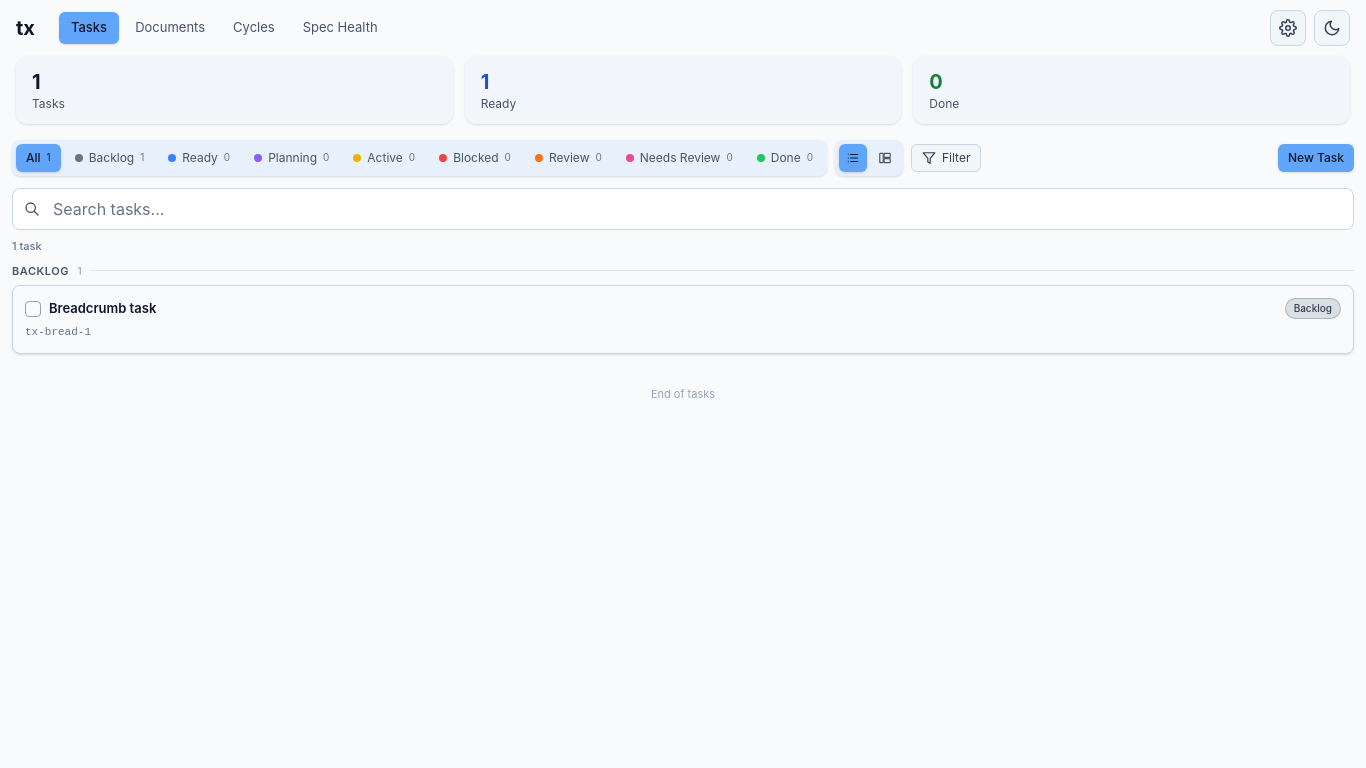
Test: Hierarchical command palette (integration) › breadcrumb 'All' click returns to root
Click the heading "Breadcrumb task" at (103, 309), box [49,299,156,318]
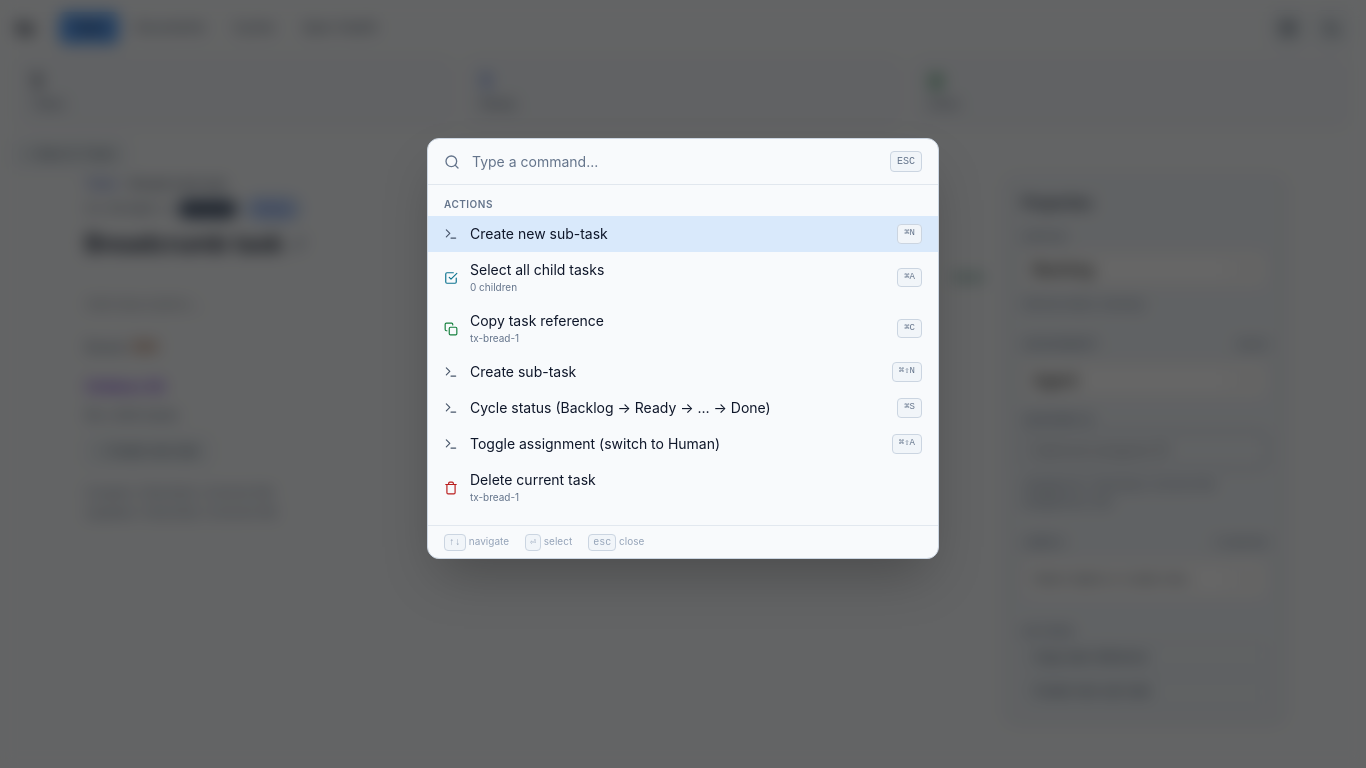
Expected: the field with placeholder "Type a command..." is shown
Type "Set status" into the field with placeholder "Type a command..." at (675, 162), box [472,152,878,172]
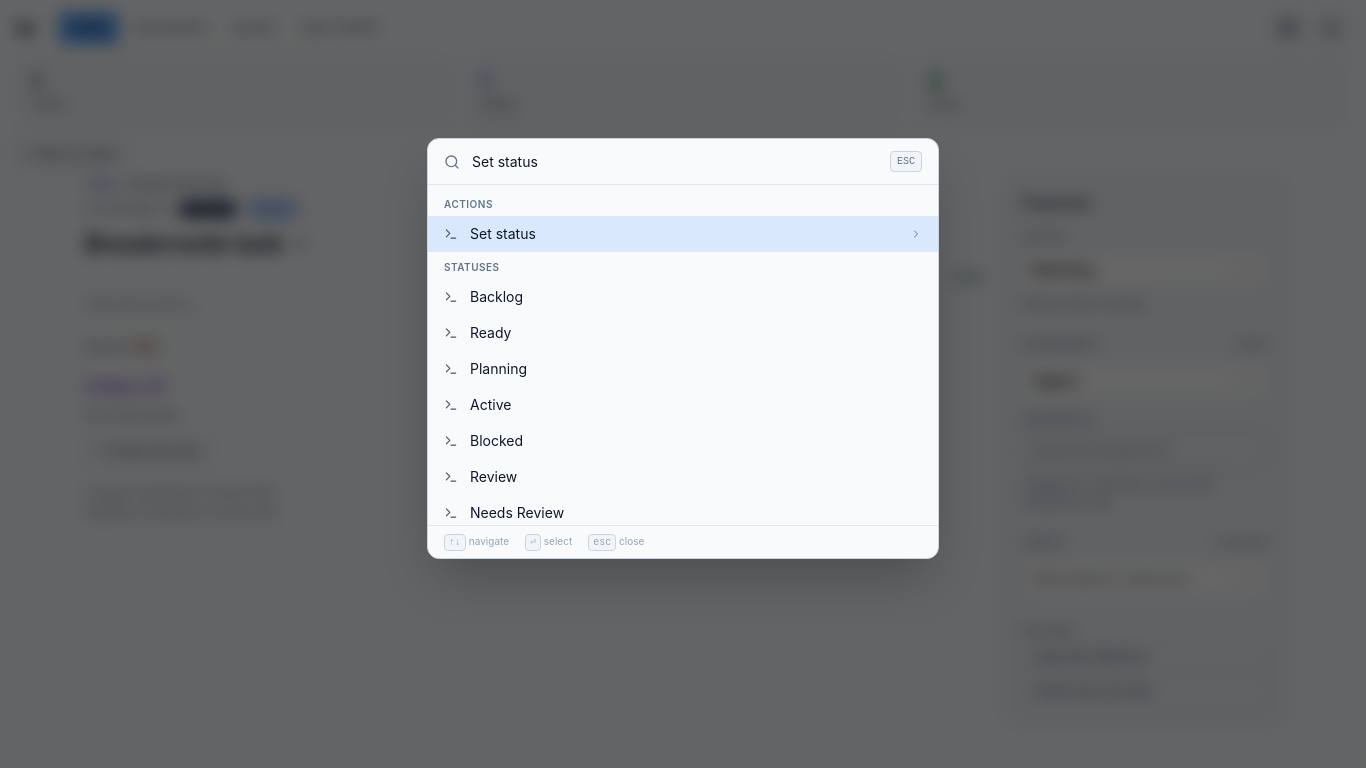
Click the button "Set status" at (503, 234), box [428,216,938,252]
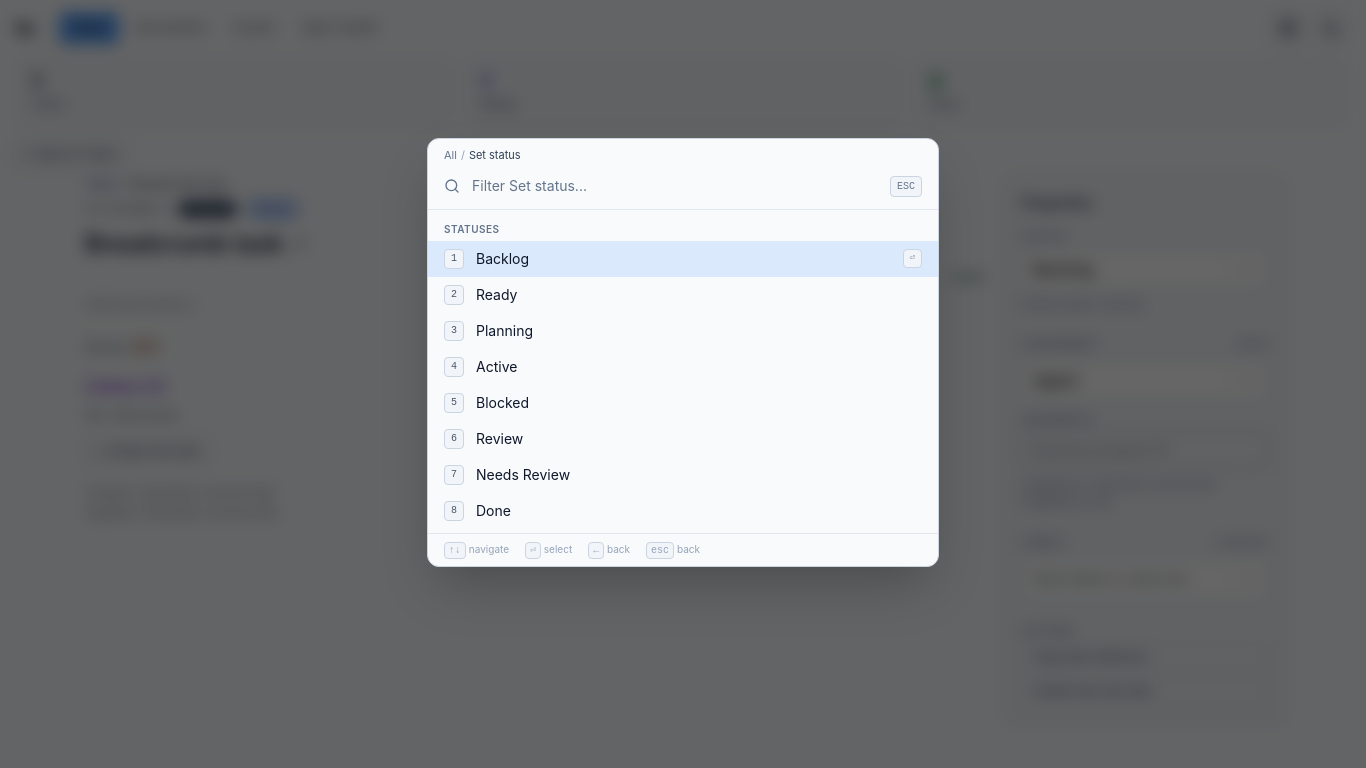
Expected: the button with test id "breadcrumb-root" reads "All"
Click the button with test id "breadcrumb-root" at (450, 155), box [444,147,457,164]
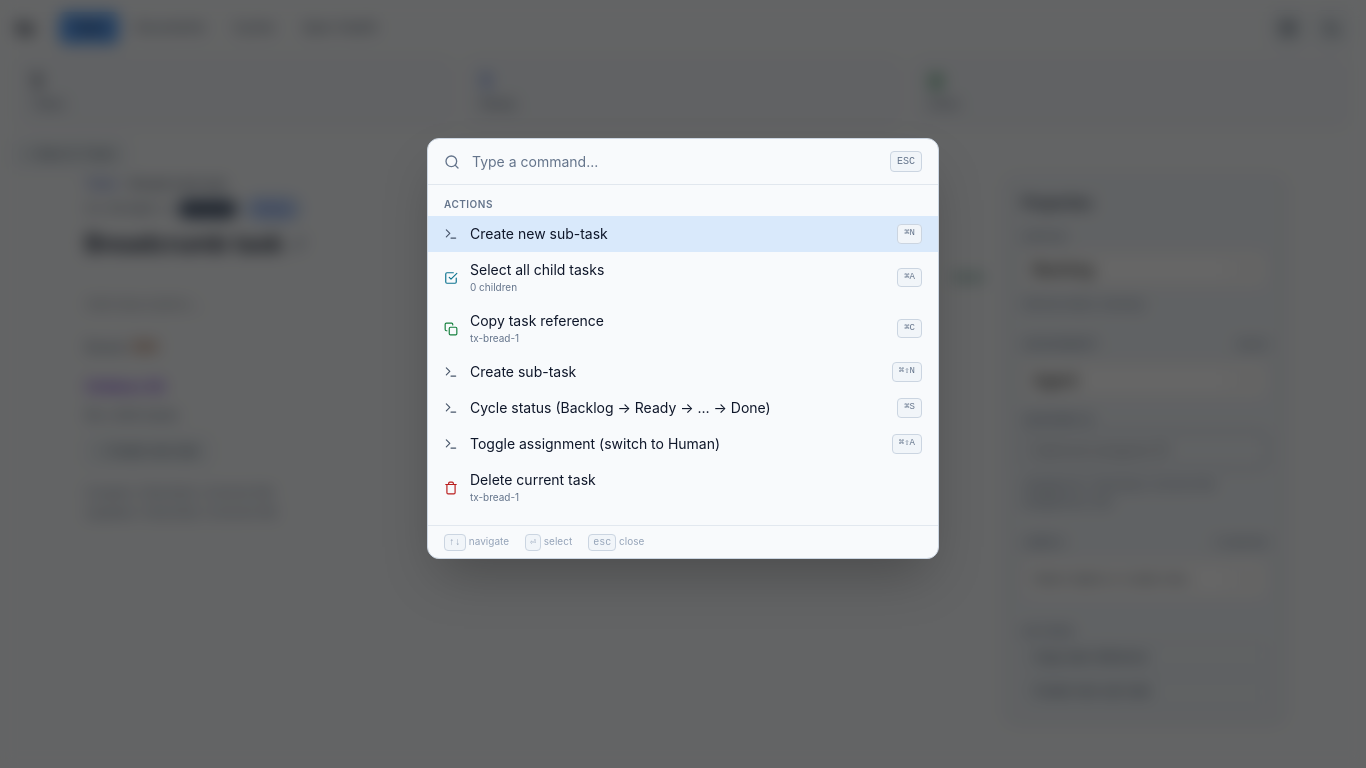
Expected: the field with placeholder "Type a command..." is shown, [472,152,878,172]
Expected: the button with test id "breadcrumb-root" is gone
